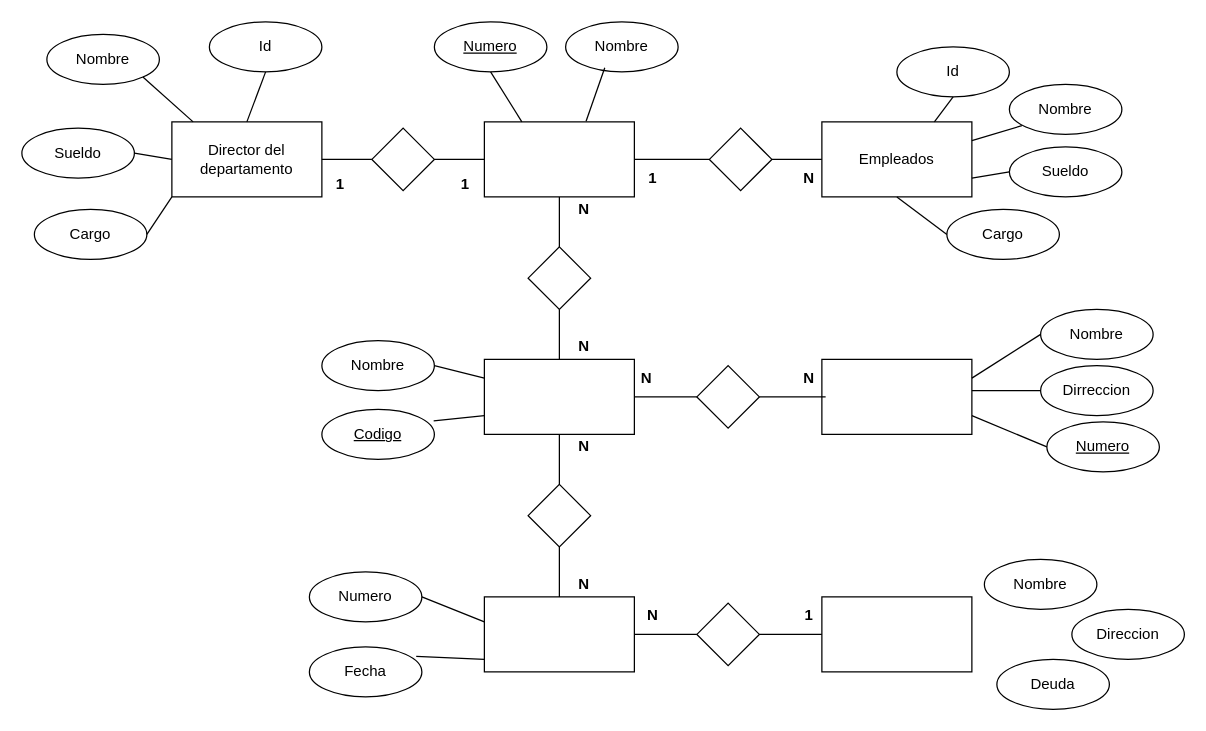
The diagram is 1206 pixels wide and 731 high, and some of its shapes have lost their labels. Here are the shapes that lost their labels. From the top down, the centre of each, then its label:
At pixel 558 159: "Departmento".
At pixel 558 396: "Articulos".
At pixel 896 396: "Proveedores".
At pixel 558 634: "Pedidos".
At pixel 896 634: "Clientes".
